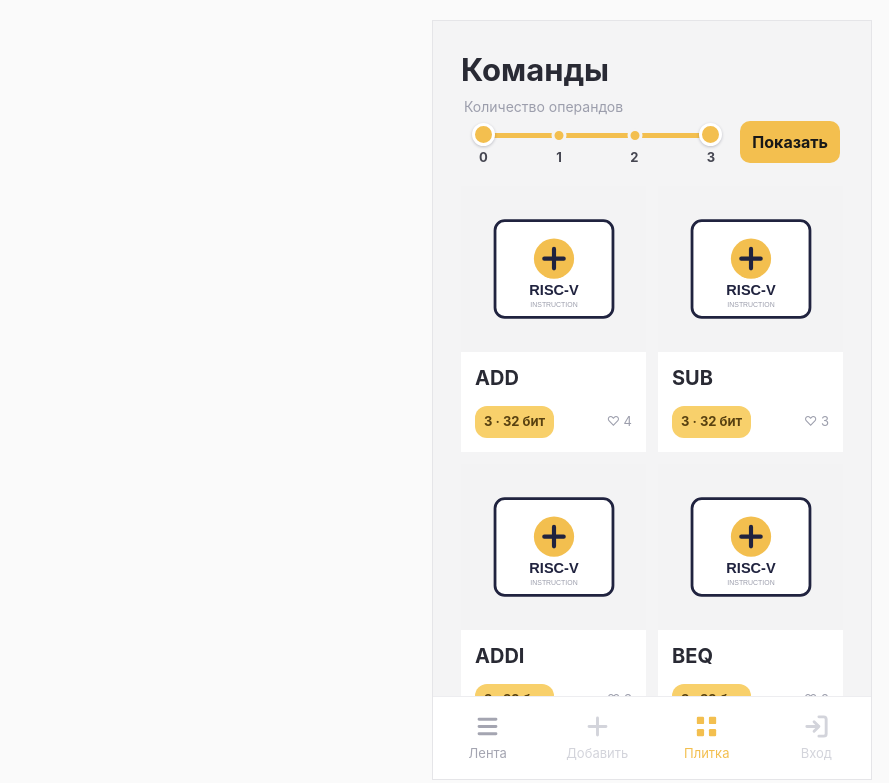
Test: страница плитки › применяет фильтр по кнопке и сохраняет его в URL
Expected: the heading "ADD" is shown, [475,366,519,390]
Set the slider named "Максимальное количество операндов" to "0" at (480, 135), box [472,121,722,148]
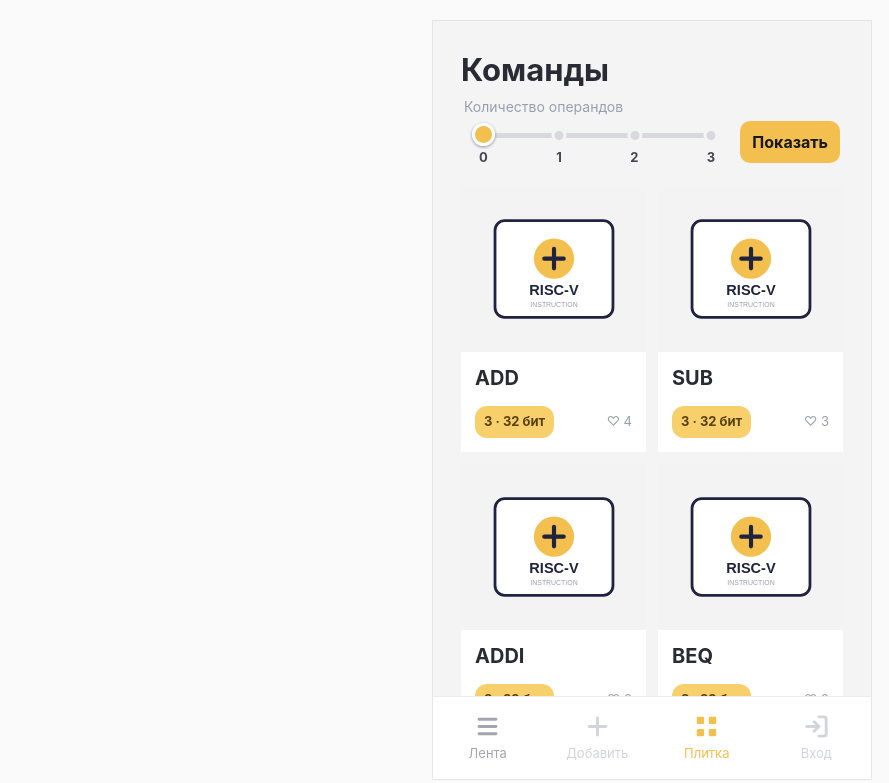
Click the button "Показать" at (790, 142), box [740,121,840,163]
(page scrolled)
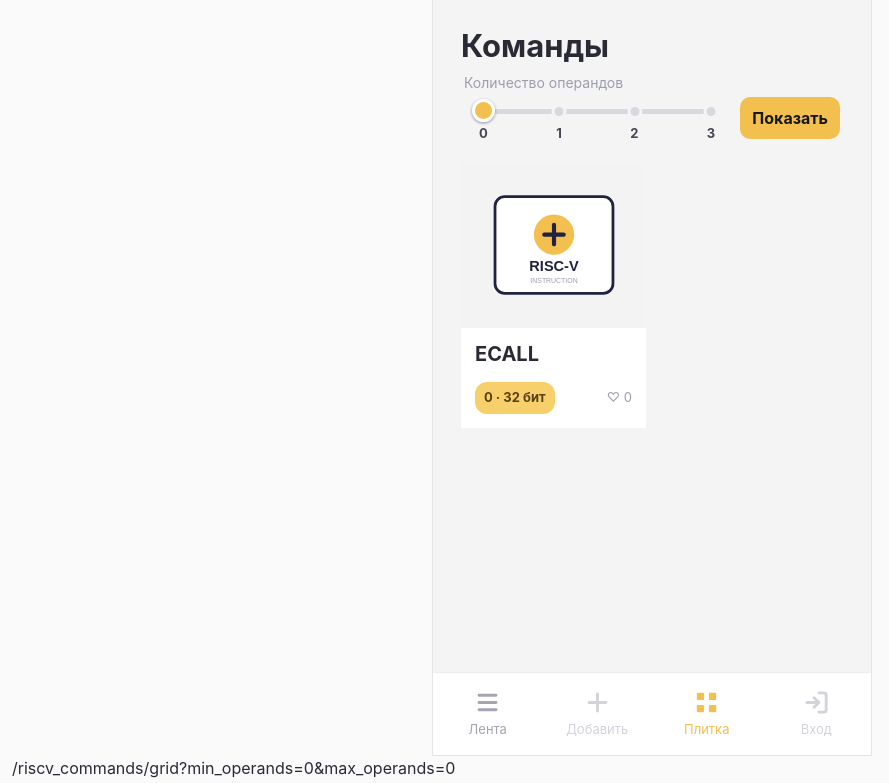
Expected: the heading "ECALL" is shown, [475,342,539,366]
Expected: the text with test id "location" reads "/riscv_commands/grid?min_operands=0&max_operands=0", [12,758,455,778]
